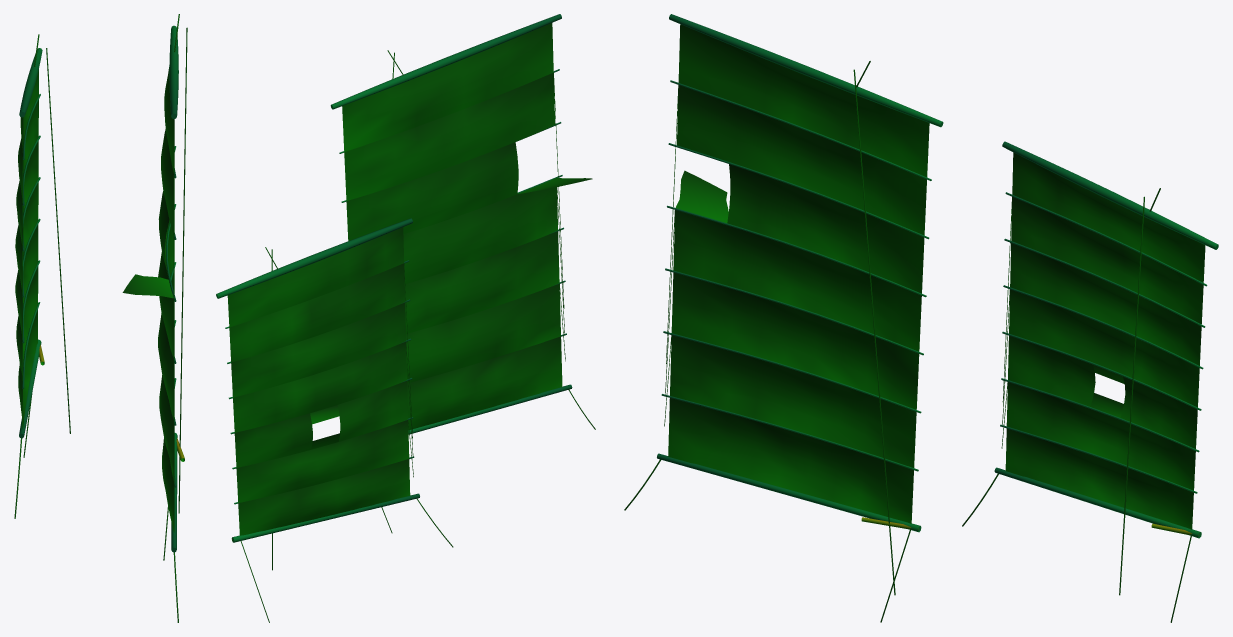
The model's file is terrace_sails_set.glb.
The picture shows the model from 3 angles, left to right: view 1: azimuth 30°, elevation 25°; view 2: azimuth 150°, elevation 25°; view 3: azimuth 270°, elevation 25°; orthographic projection. The views are drawn at different scales.
Parts seen in each view (by area): view 1: terrace_sails_set; view 2: terrace_sails_set; view 3: terrace_sails_set.
Part boxes in pixels (x1=…): terrace_sails_set: x1=14, y1=14, x2=187, y2=622; terrace_sails_set: x1=216, y1=14, x2=595, y2=622; terrace_sails_set: x1=624, y1=14, x2=1218, y2=622.
Size of what is drawn, in the model's own units: 4.54 by 13.36 by 12.7.
